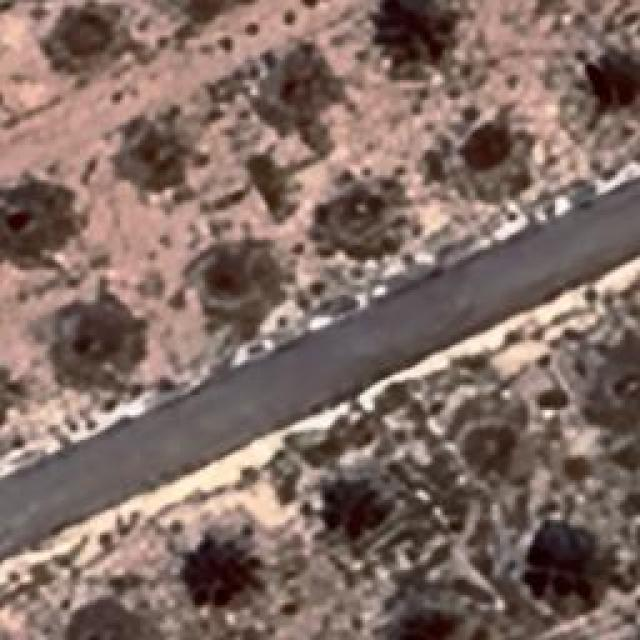PalmTree: (518, 515, 612, 613), (372, 0, 458, 70), (178, 544, 258, 608), (391, 597, 476, 640), (318, 475, 382, 530), (587, 42, 640, 107), (466, 122, 516, 176)
